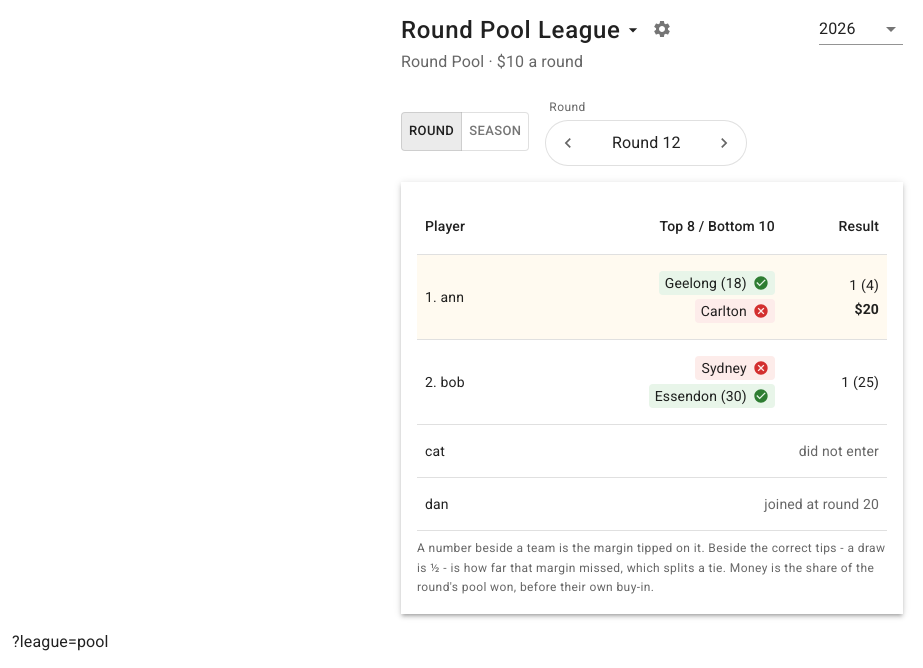
Test: the round table on a phone › the money table keeps Balance on screen
Click the button "Season". click: point(495, 132)
box: [461,112,529,151]
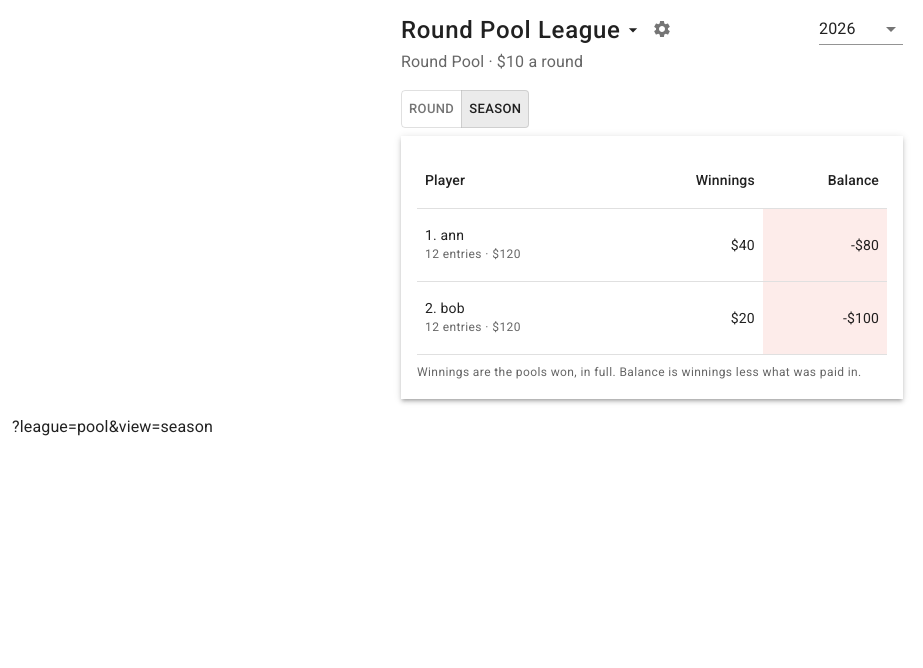
Check: the column heading "Winnings" is shown, box [624,152,763,209]
Check: the cell "1. ann 12 entries · $120" is shown, box [417,209,624,282]
Check: the cell "-$80" is shown, box [763,209,887,282]
